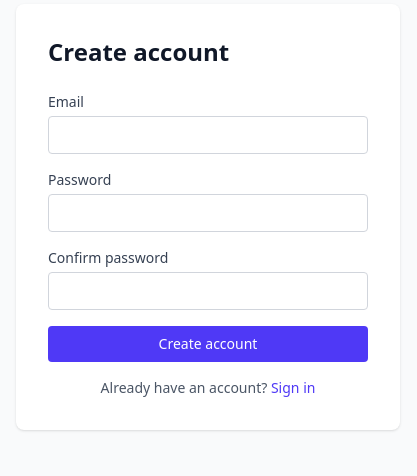
Scenario: RegisterPage › shows server unreachable error when no response
Type "a@b.com" into the field labelled "Email".
click(208, 135); type("a@b.com")  # box x1=48 y1=116 x2=368 y2=154
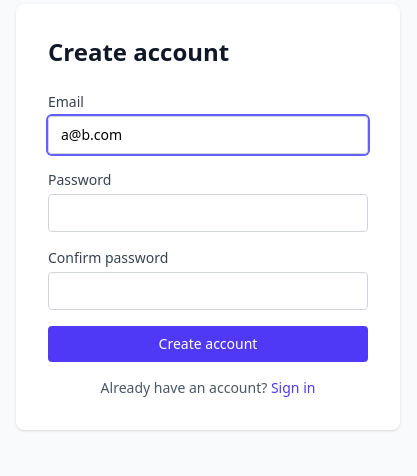
Type "password123" into the password field labelled "Password".
click(208, 213); type("password123")  # box x1=48 y1=194 x2=368 y2=232
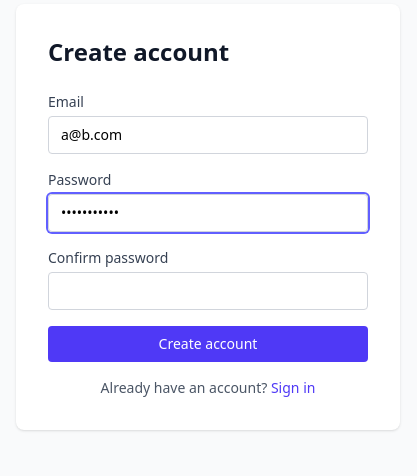
Type "password123" into the password field labelled "Confirm password".
click(208, 291); type("password123")  # box x1=48 y1=272 x2=368 y2=310
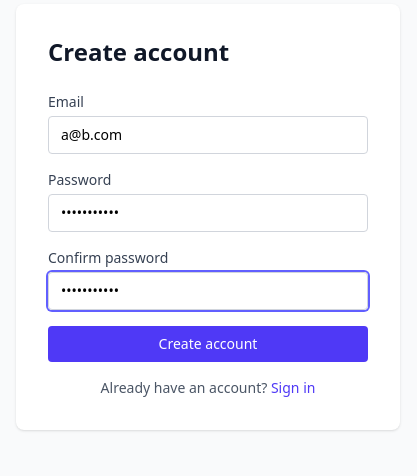
Click the button "Create account".
click(208, 344)  # box x1=48 y1=326 x2=368 y2=362
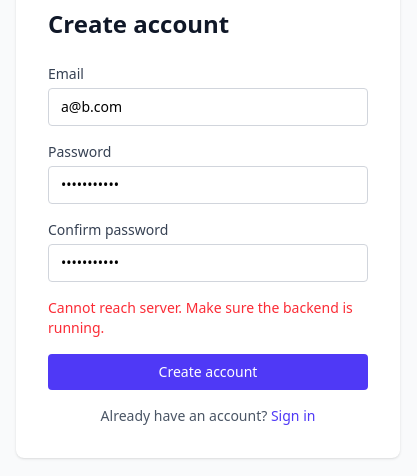
Now the text "Cannot reach server. Make sure the backend is running." is shown, box x1=48 y1=298 x2=368 y2=338
